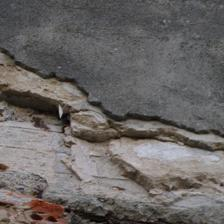Crack: (1, 22, 219, 129)
